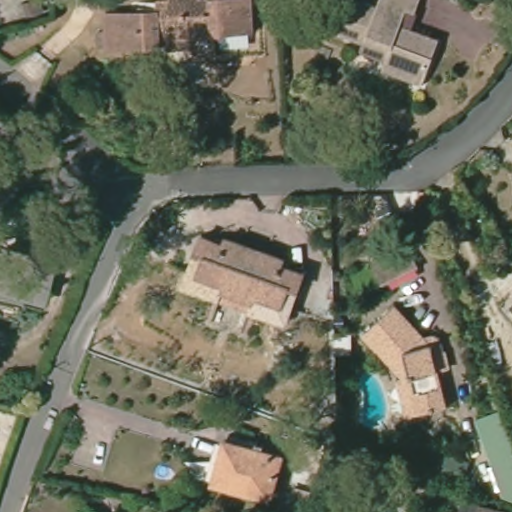pool: (348, 366, 394, 430)
